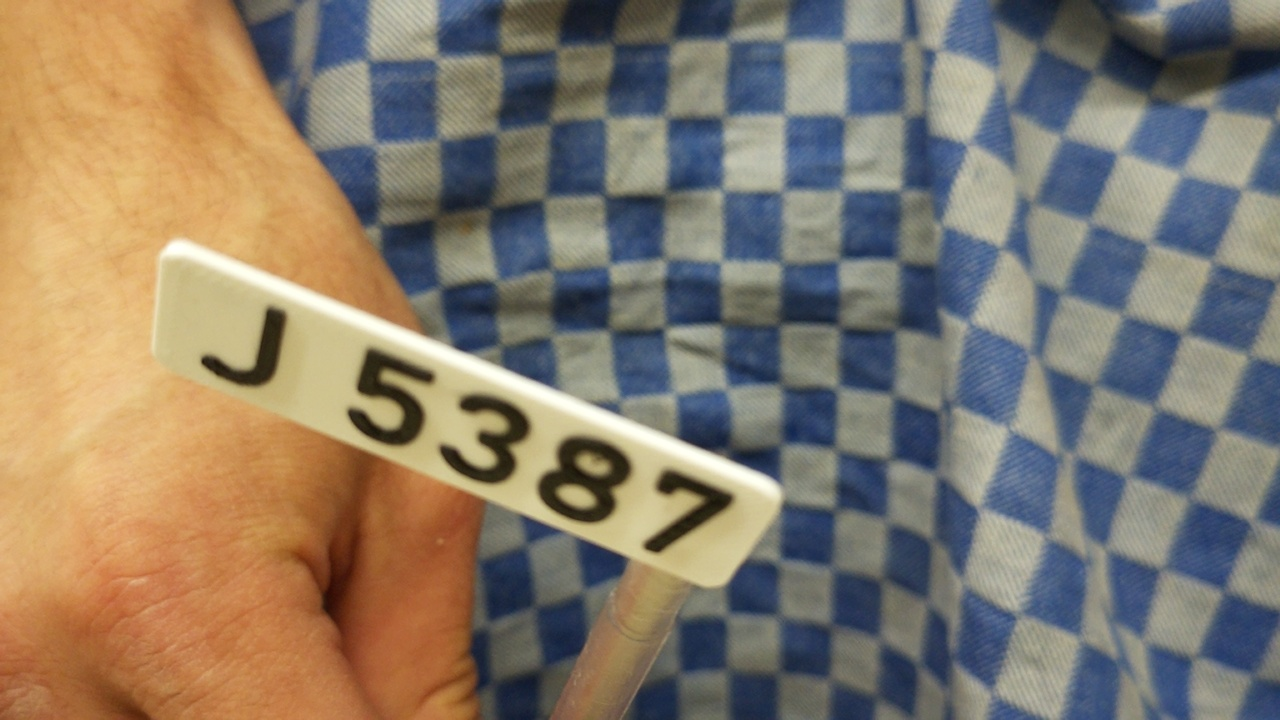license_plate: (149, 232, 791, 594)
